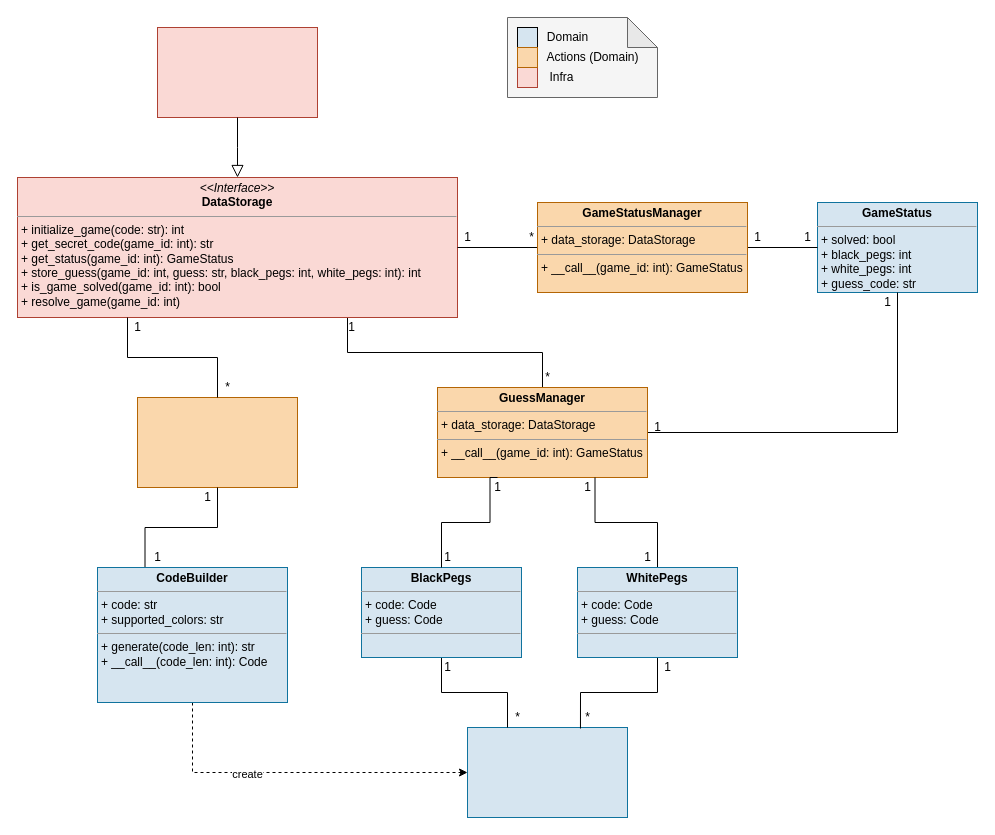
This 995x835 diagram has some shape labels left out. Here are the shapes that lost their labels. From the top down, the centre of each, then its label:
At point 237,72: "SQLStorage".
At point 217,442: "GameCreator + data_storage: DataStorage + __call__(code_len: int)".
At point 547,772: "Code + pegs: dict + raw: str".
